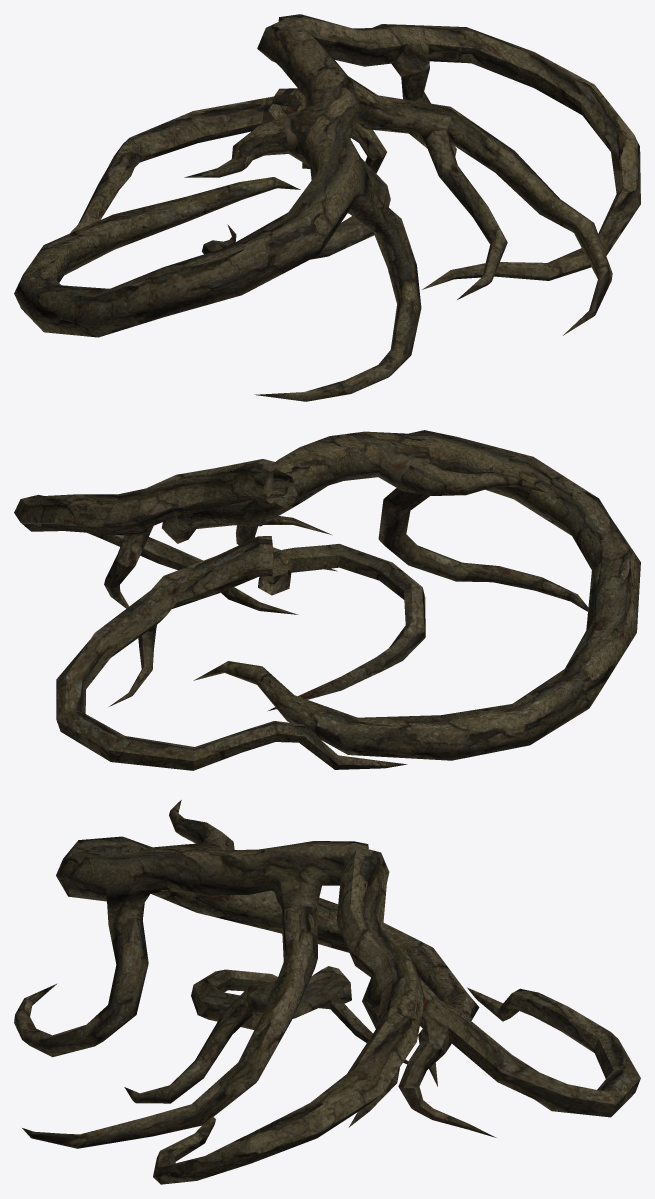
File: Familytree.Branches.fbx
3 views of the same model, one above another, from view 1: azimuth 30°, elevation 25°; view 2: azimuth 150°, elevation 25°; view 3: azimuth 270°, elevation 25° (orthographic). The views are drawn at different scales.
Visible parts, largest first — view 1: Circle.001; view 2: Circle.001; view 3: Circle.001.
Part boxes in pixels (x1,y1,x2,y2): Circle.001: [14, 14, 640, 401]; Circle.001: [14, 430, 640, 770]; Circle.001: [14, 800, 640, 1184].
Size of the model in its own units: 2823 by 1070 by 2532.
